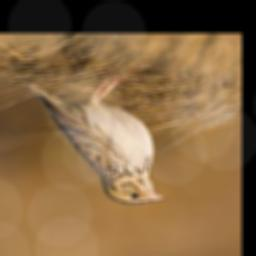Sparrow: (25, 75, 168, 205)
